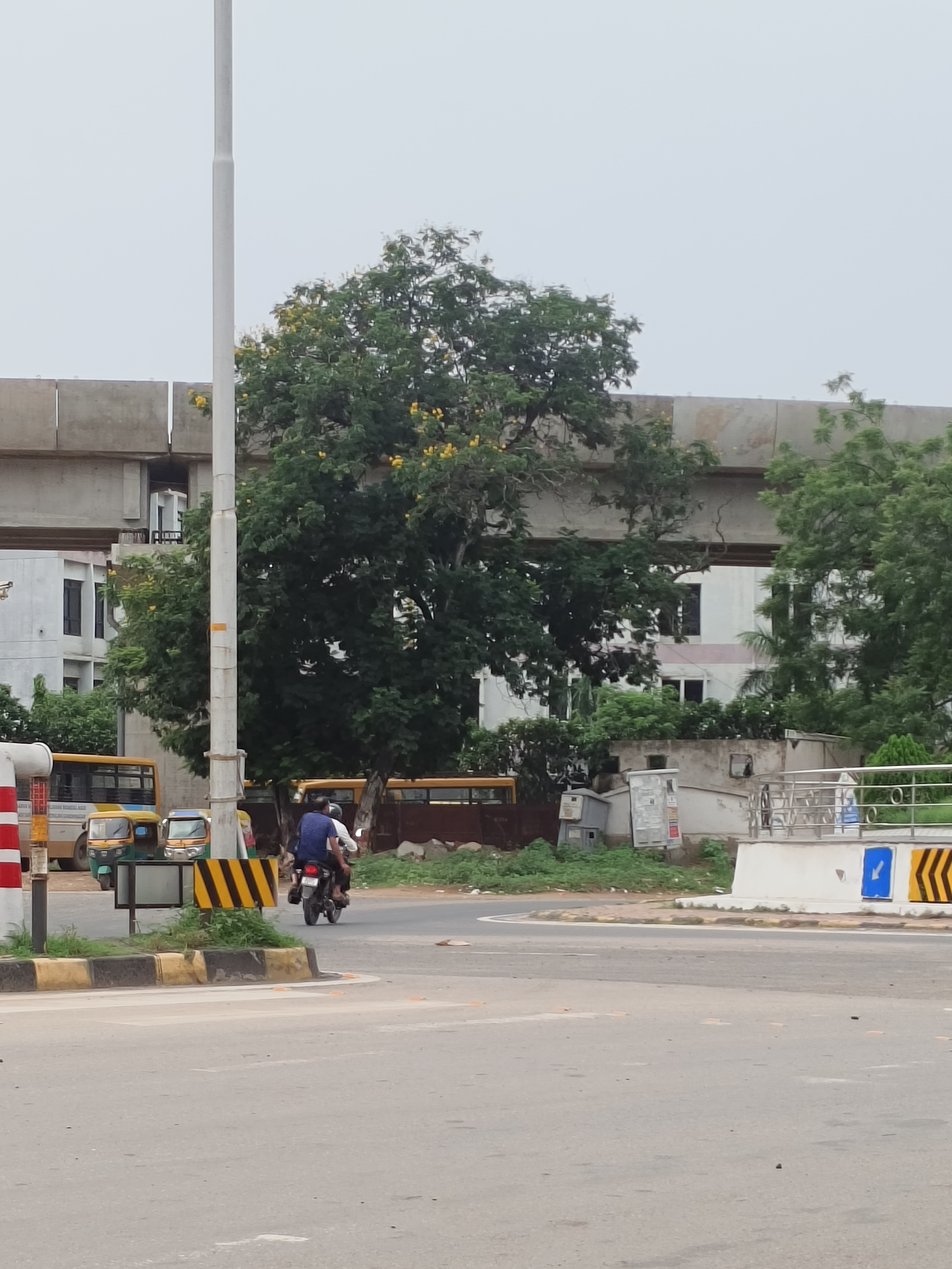BikeWithRider: (280, 793, 368, 929)
Helmet: (321, 800, 346, 824)
NoHelmet: (310, 794, 333, 817)
